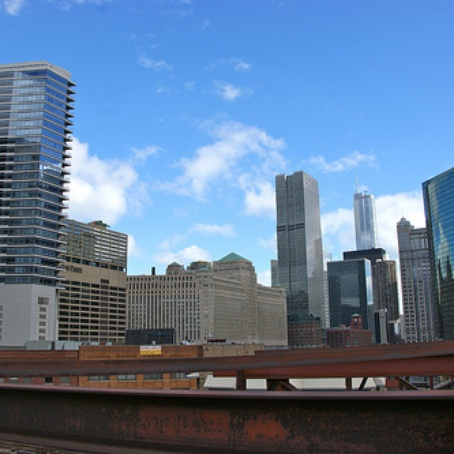building: (1, 56, 81, 344), (126, 270, 293, 344), (274, 169, 325, 341), (57, 221, 127, 345), (393, 210, 440, 346), (335, 251, 395, 346), (427, 168, 454, 338), (349, 185, 377, 251)
sky: (85, 1, 446, 225)
